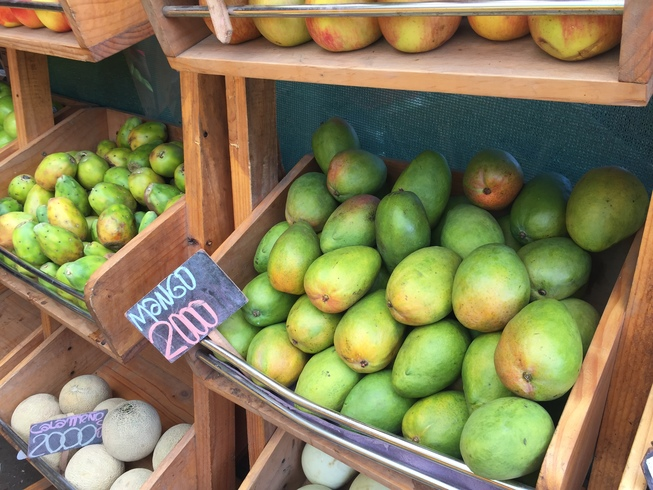precio: (124, 257, 246, 356), (32, 415, 105, 455)
